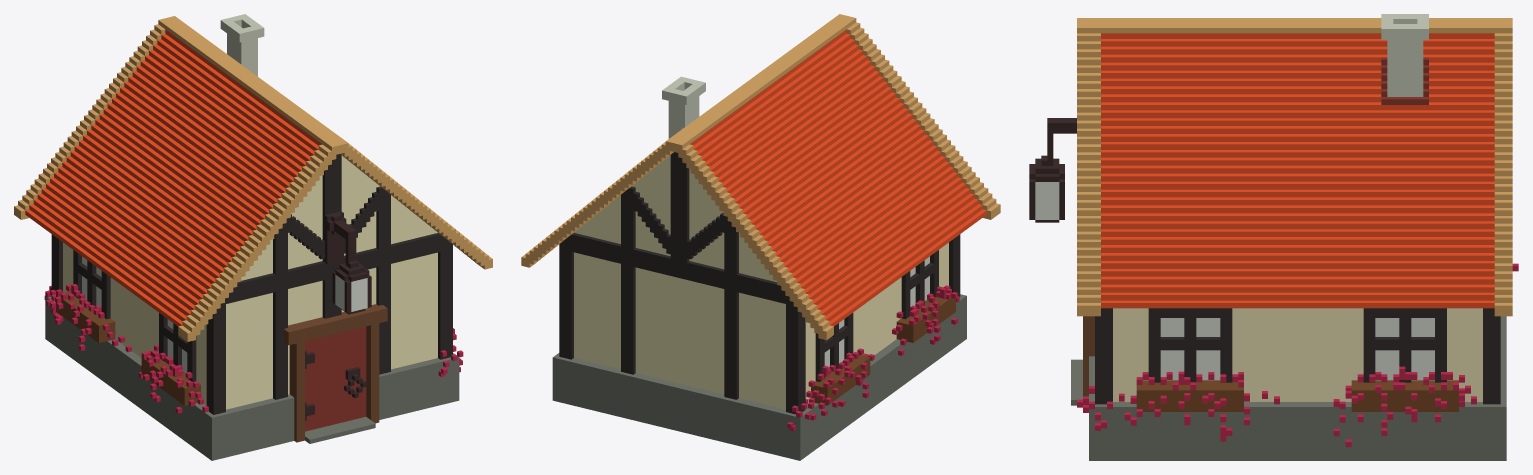
Rendered from house-1.obj.
The picture shows the model from 3 angles, left to right: view 1: azimuth 30°, elevation 25°; view 2: azimuth 150°, elevation 25°; view 3: azimuth 270°, elevation 25°; orthographic projection. The views are drawn at different scales.
Parts seen in each view (by area): view 1: house; view 2: house; view 3: house.
Part boxes in pixels (<box>): house: <box>14,14,492,460</box>; house: <box>521,14,1000,460</box>; house: <box>1029,14,1518,460</box>.
Size of the model in its own units: 74 by 71 by 82.
